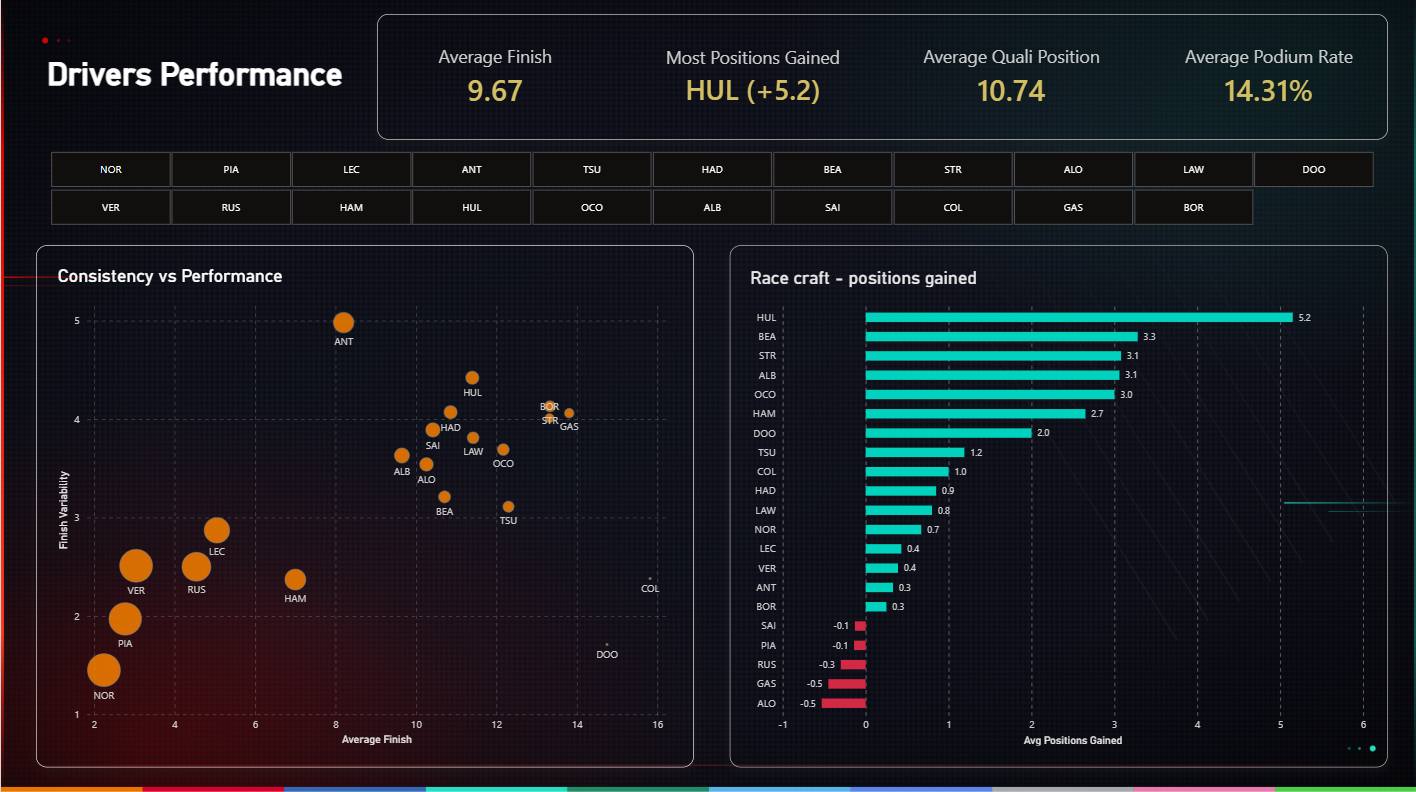

The dashboard page shown, as its layout file describes it:
{"tool":"powerbi","page":{"name":"Drivers Performance","canvas":[1920,1080],"ordinal":1},"visuals":[{"type":"shape","box":[48,334,892,708],"z":0},{"type":"shape","box":[988,334,892,708],"z":1000},{"type":"shape","box":[510,20,1370,170],"z":2000},{"type":"scatterChart","title":"Consistency vs Performance","fields":{"Category":["2025_master_summary.Abbreviation"],"Size":["Sum(2025_master_summary.Total Points)"],"X":["Sum(2025_master_summary.Races Avg Finish)"],"Y":["Sum(2025_master_summary.Races Finish Std)"]},"box":[61.7,347.5,865.8,680],"z":3000},{"type":"barChart","title":"Race craft - positions gained","fields":{"Category":["2025_master_summary.Abbreviation"],"Y":["Sum(2025_master_summary.Avg Quali Race Gap)"]},"box":[1000,348.6,867.1,679.3],"z":4000},{"type":"cardVisual","fields":{"Data":["2025_master_summary.Average Finish"]},"box":[510,36,320,140],"z":5000},{"type":"cardVisual","fields":{"Data":["2025_master_summary.Most Positions Gained"]},"box":[860,36,320,140],"z":6000},{"type":"cardVisual","fields":{"Data":["2025_master_summary.Avergar Quali Position"]},"box":[1210,36,320,140],"z":7000},{"type":"cardVisual","fields":{"Data":["2025_master_summary.Average Podium Rate"]},"box":[1560,36,320,140],"z":8000},{"type":"slicer","title":"Driver Slicer","fields":{"Values":["2025_master_summary.Abbreviation"]},"box":[47.5,205,1832.5,102.5],"z":9000},{"type":"textbox","box":[62,76,448,86],"z":10000}]}

Visuals, with their boxes in screenshot pixels (x1, y1, x2, y2), scaled from the page's 1920x1080 canvas onto the 1416x792 screenshot:
shape: <bbox>35, 245, 693, 764</bbox>
shape: <bbox>729, 245, 1386, 764</bbox>
shape: <bbox>376, 15, 1386, 139</bbox>
"Consistency vs Performance" scatterChart: <bbox>46, 255, 684, 754</bbox>
"Race craft - positions gained" barChart: <bbox>738, 256, 1377, 754</bbox>
cardVisual - 2025_master_summary.Average Finish: <bbox>376, 26, 612, 129</bbox>
cardVisual - 2025_master_summary.Most Positions Gained: <bbox>634, 26, 870, 129</bbox>
cardVisual - 2025_master_summary.Avergar Quali Position: <bbox>892, 26, 1128, 129</bbox>
cardVisual - 2025_master_summary.Average Podium Rate: <bbox>1150, 26, 1386, 129</bbox>
"Driver Slicer" slicer: <bbox>35, 150, 1386, 225</bbox>
textbox: <bbox>46, 56, 376, 119</bbox>
